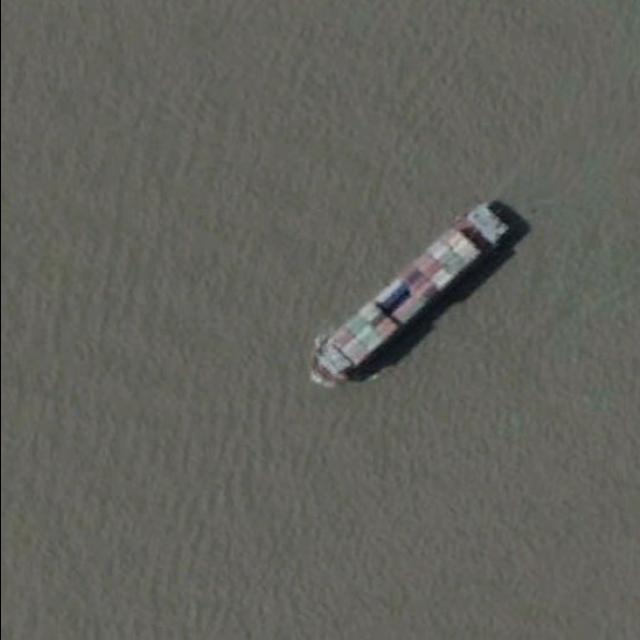ship: (307, 197, 519, 387)
